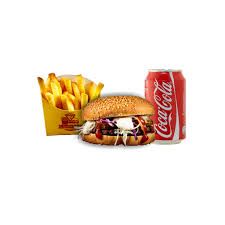hamburger: (80, 92, 156, 145)
